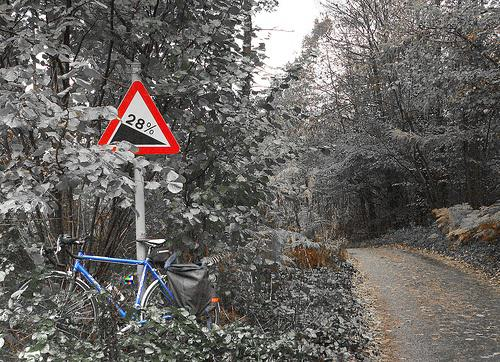car: (26, 236, 232, 325)
